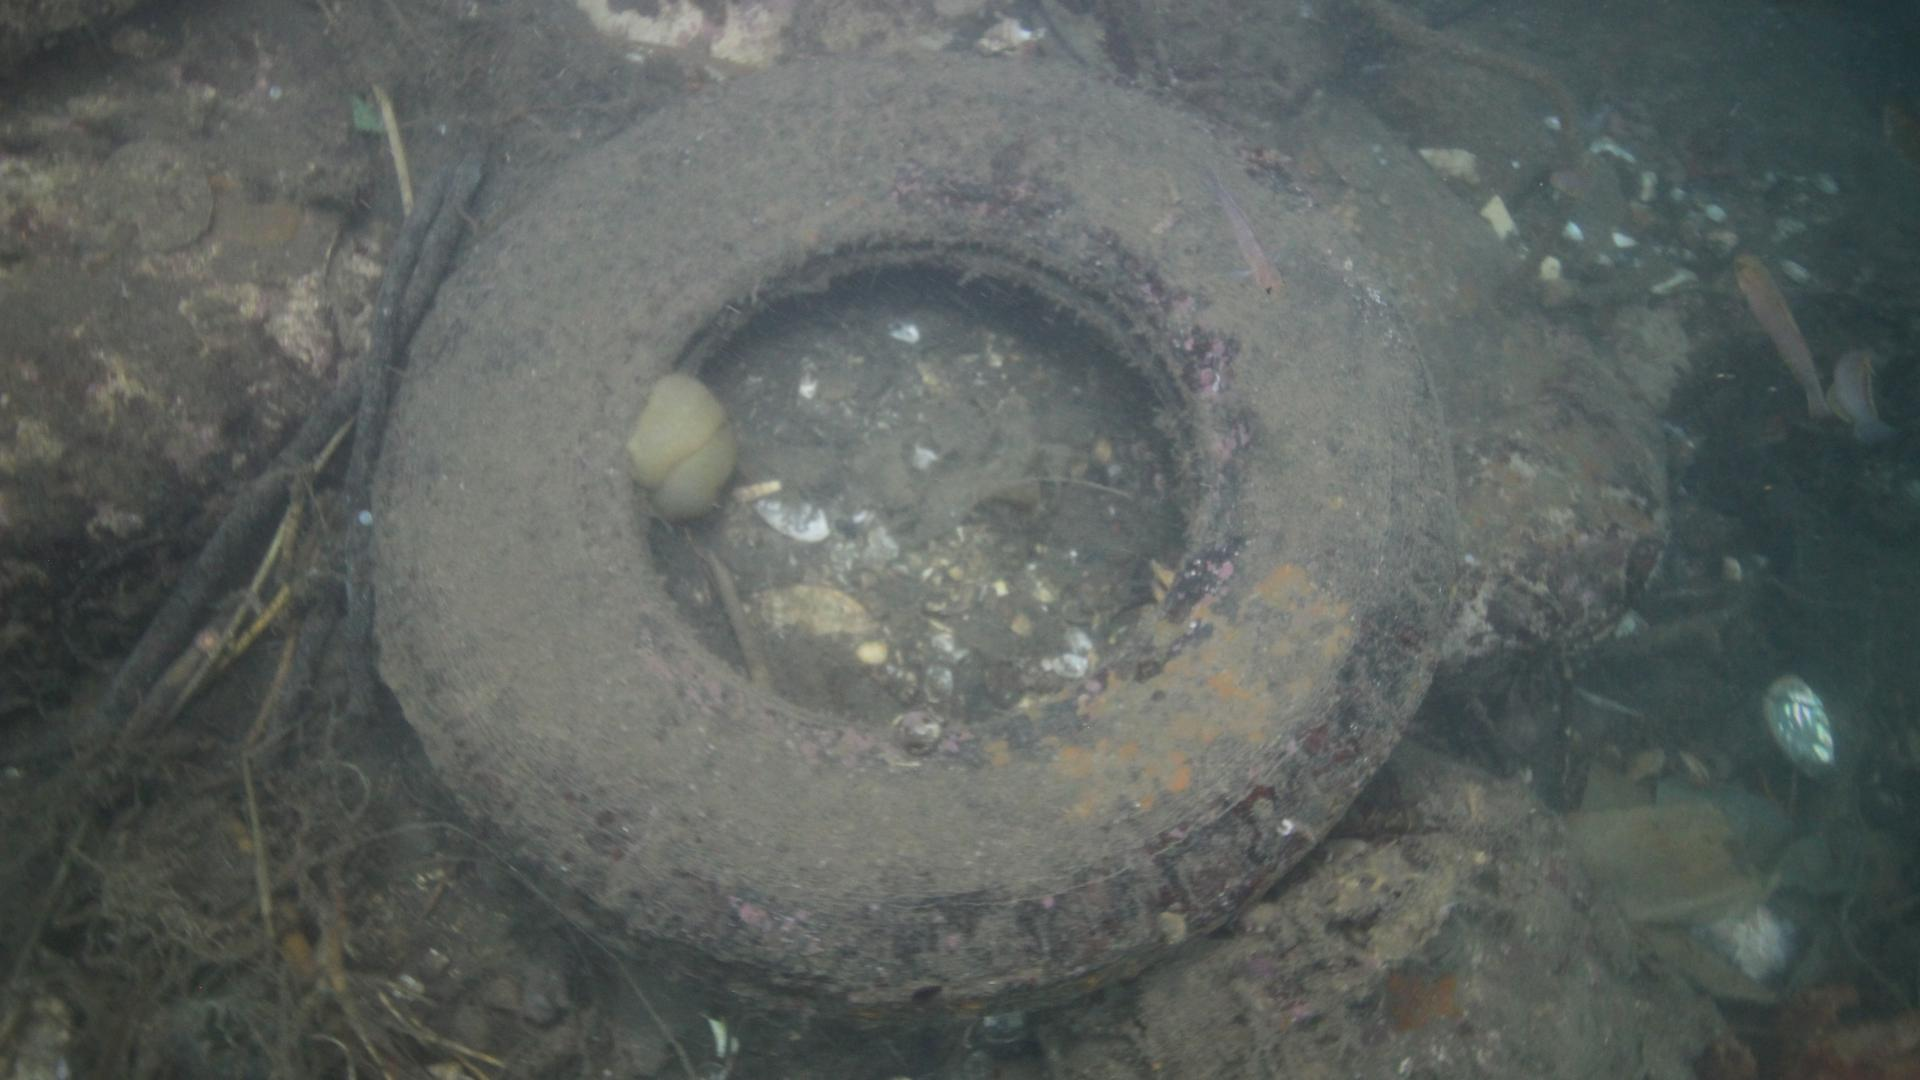tire: (365, 49, 1462, 1044)
